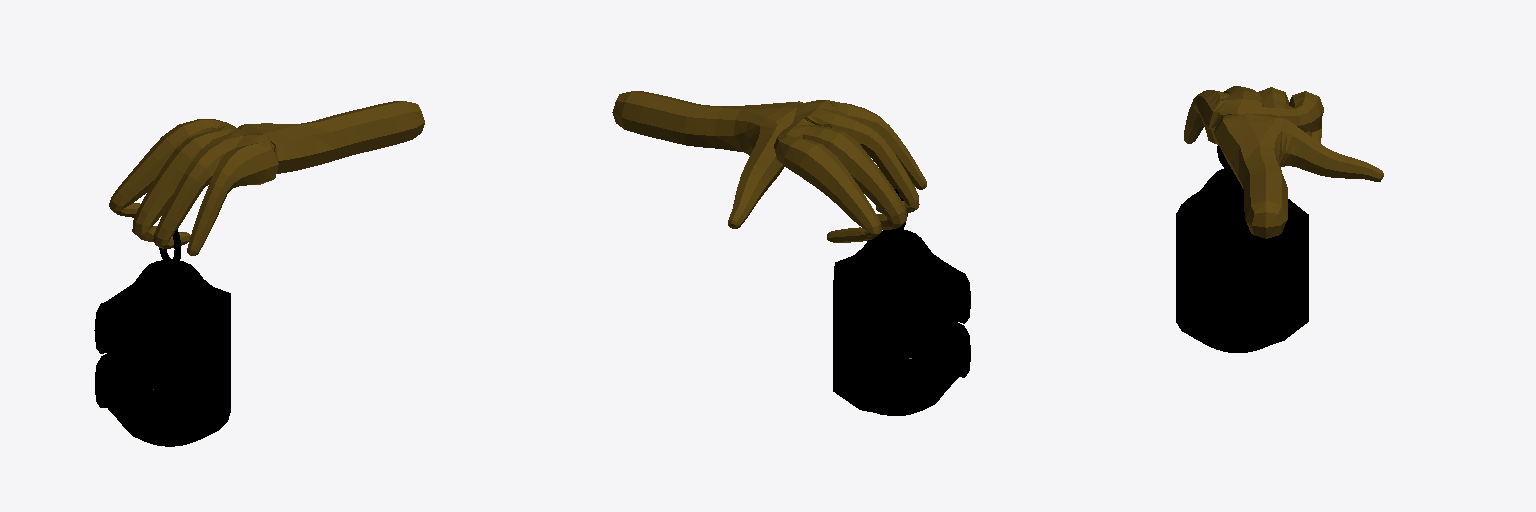
File: main.obj
The picture shows the model from 3 angles: view 1: azimuth 30°, elevation 25°; view 2: azimuth 150°, elevation 25°; view 3: azimuth 270°, elevation 25°; orthographic projection.
Parts seen in each view (by area): view 1: Cube_Cube.001; view 2: Cube_Cube.001; view 3: Cube_Cube.001.
Part boxes in pixels (left/top/right/bottom): Cube_Cube.001: left=94, top=101, right=424, bottom=446; Cube_Cube.001: left=612, top=91, right=970, bottom=415; Cube_Cube.001: left=1176, top=86, right=1383, bottom=352.
Bounding box in the file's own units: 3.83 × 3.25 × 2.17.